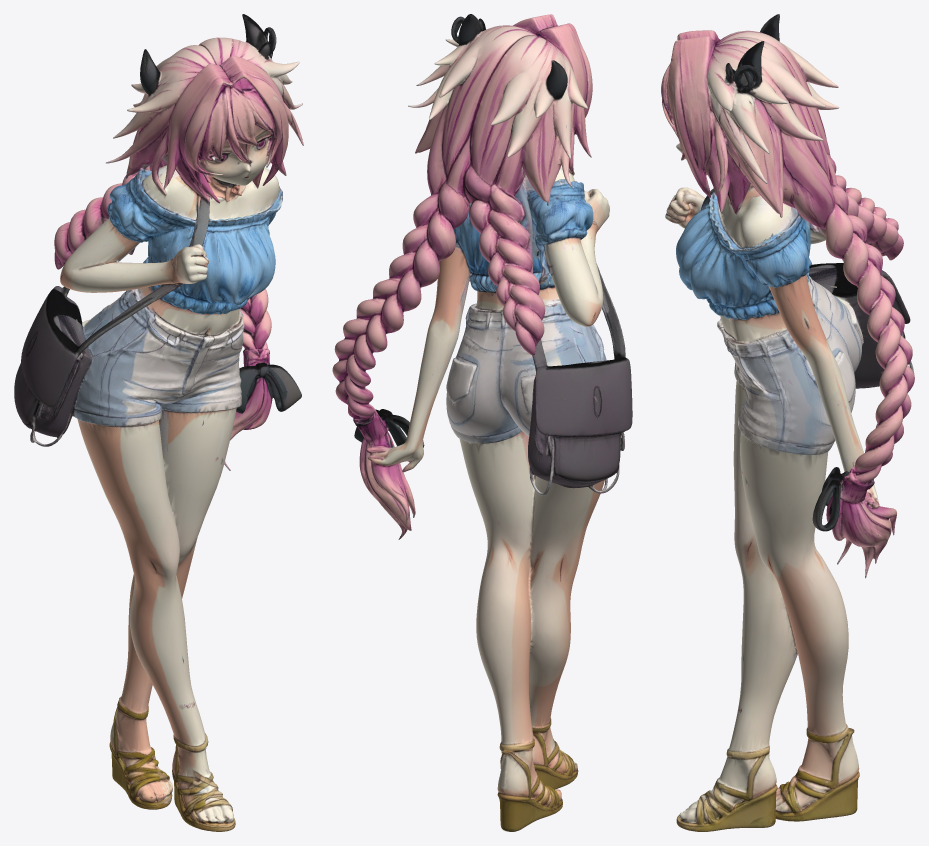
Rendered from astolfo.glb.
3 renders of one model, left to right at view 1: azimuth 30°, elevation 25°; view 2: azimuth 150°, elevation 25°; view 3: azimuth 270°, elevation 25°, orthographic. The views are drawn at different scales.
Size of the model in its own units: 0.6908 by 1.9 by 0.5371.
1 material, 1 textured.
